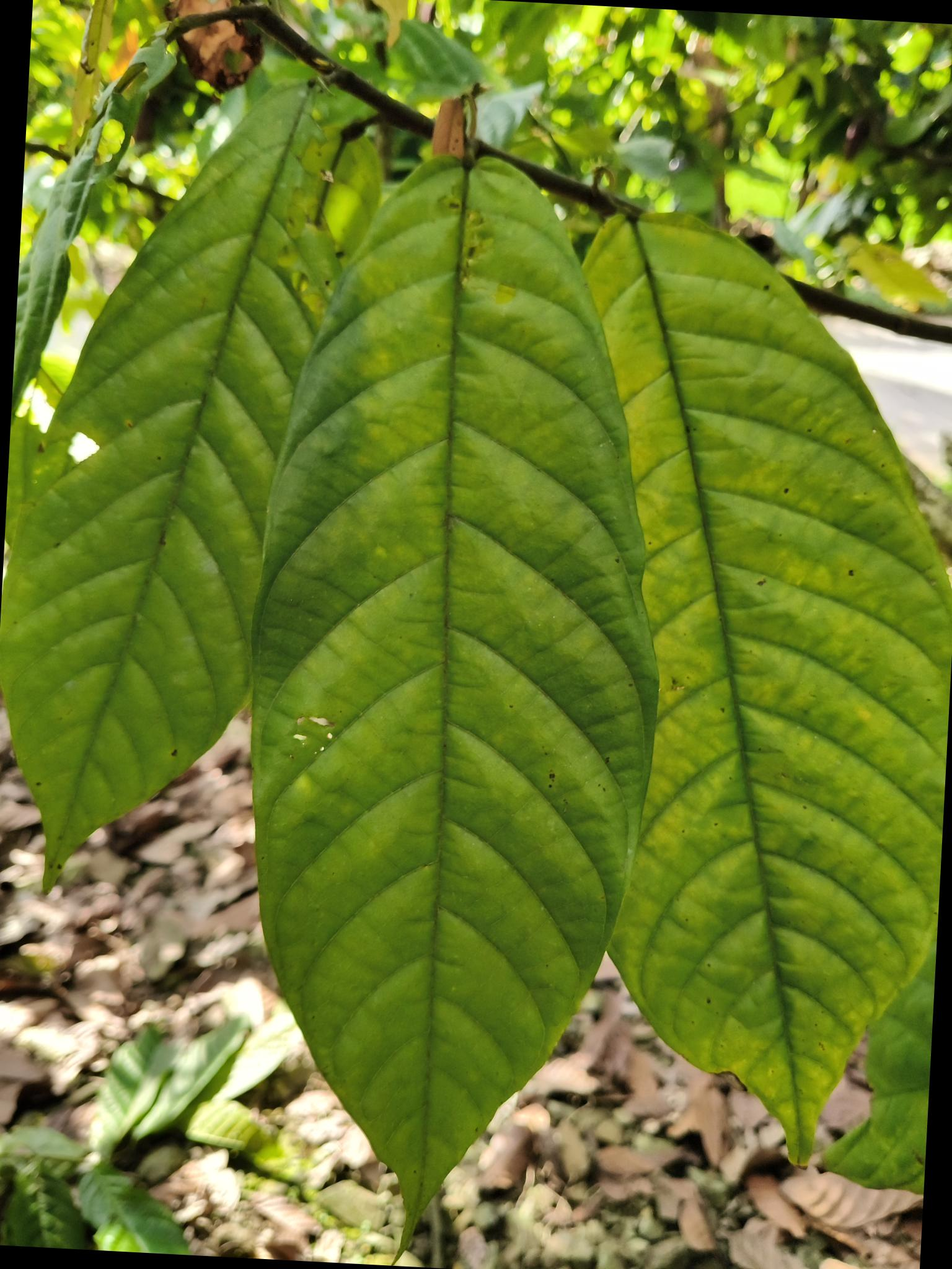Fosforo: (236, 168, 660, 1261)
